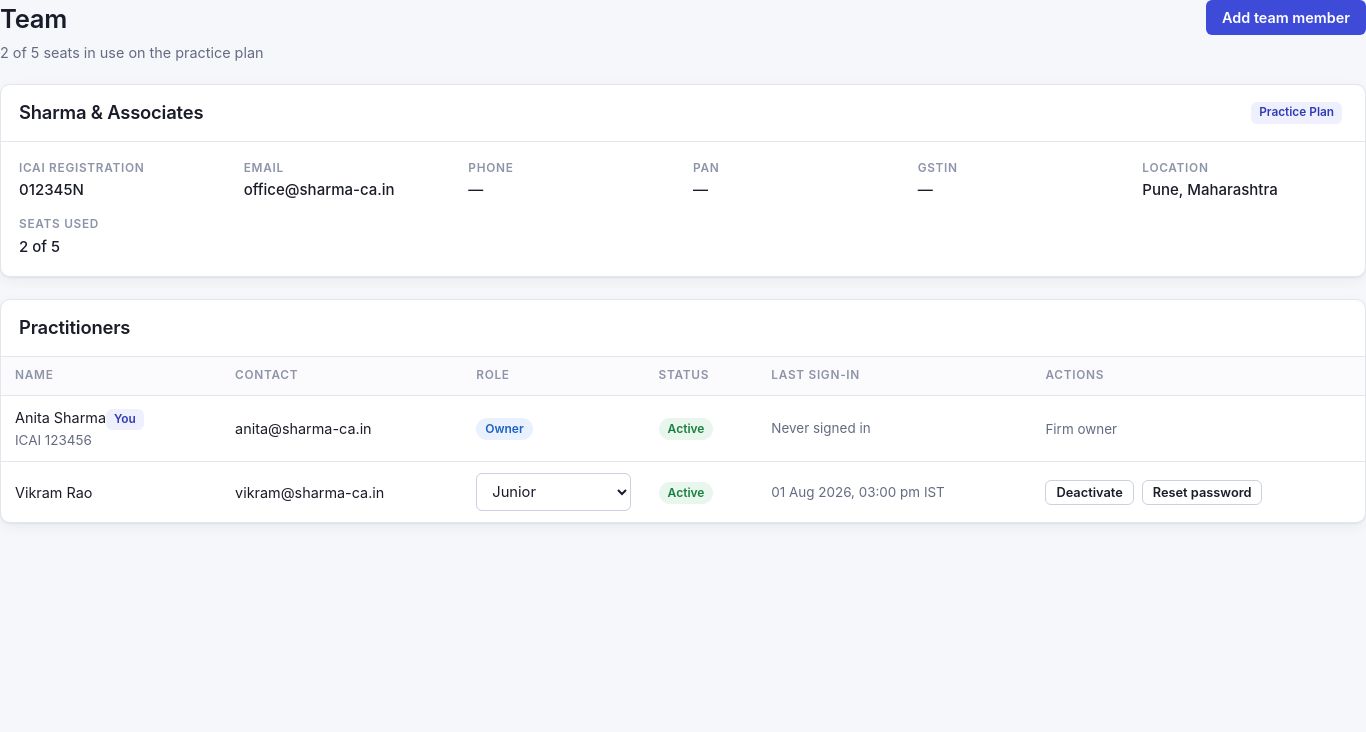
Adding a member › refuses a password the server would reject, without asking it
The width and height of the screenshot is (1366, 732).
Click the button "Add team member": coordinates (1286, 18) [1206,0,1365,35]
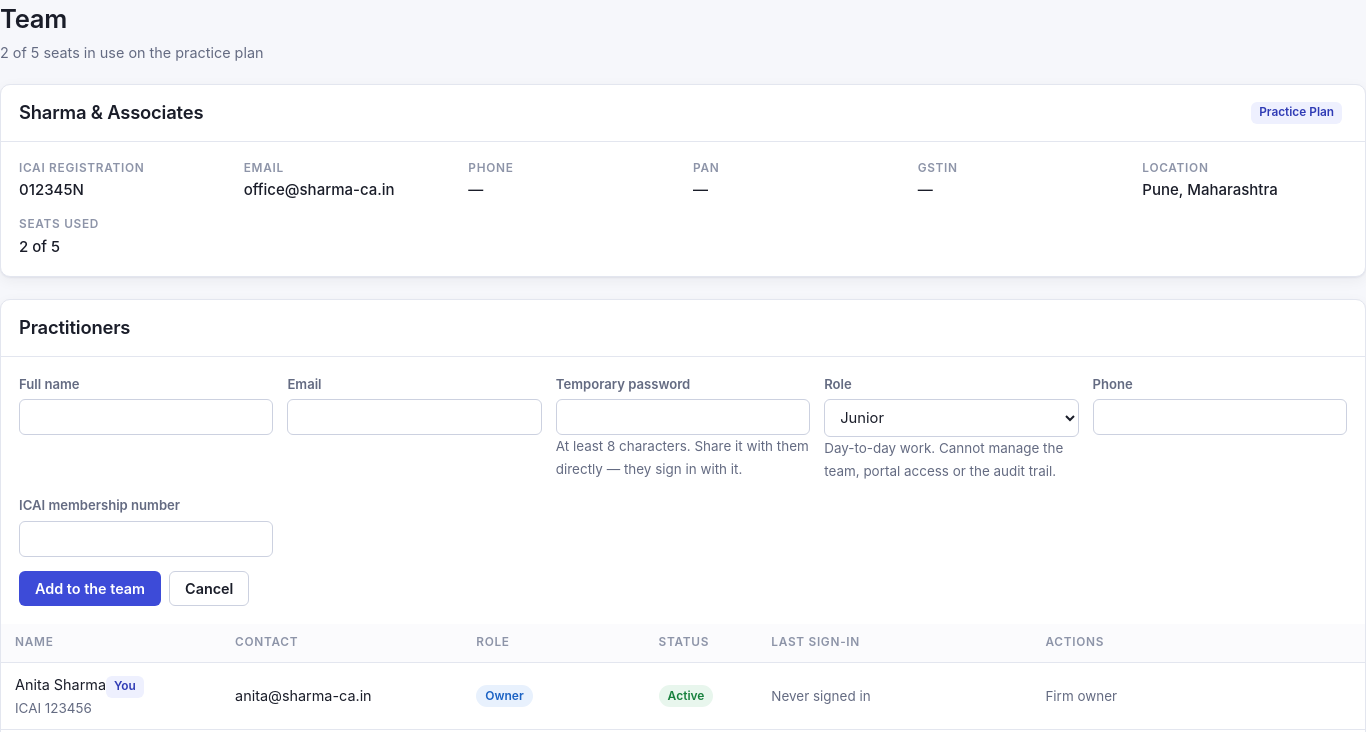
In the field labelled "Full name": coordinates (146, 417) [19,399,273,435], type "Sunil Bose"
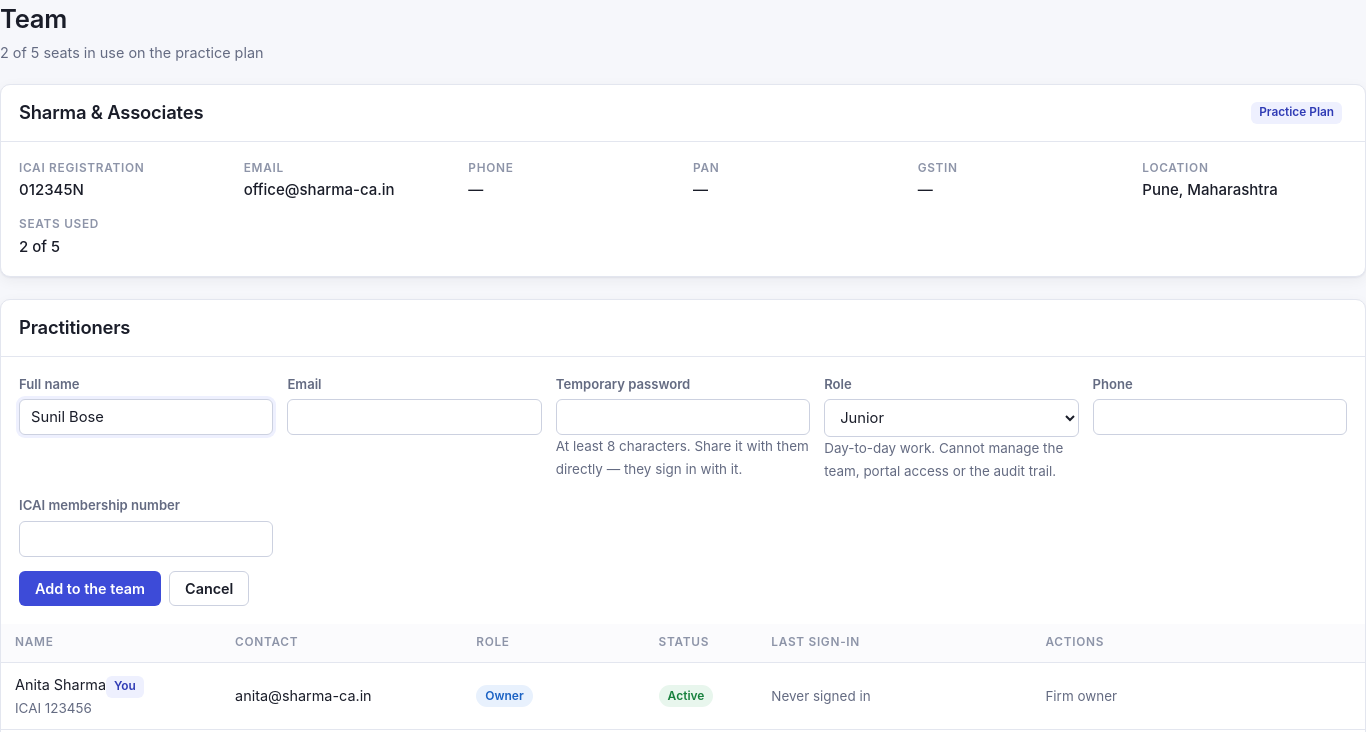
In the field labelled "Email": coordinates (415, 417) [287,399,542,435], type "sunil@sharma-ca.in"
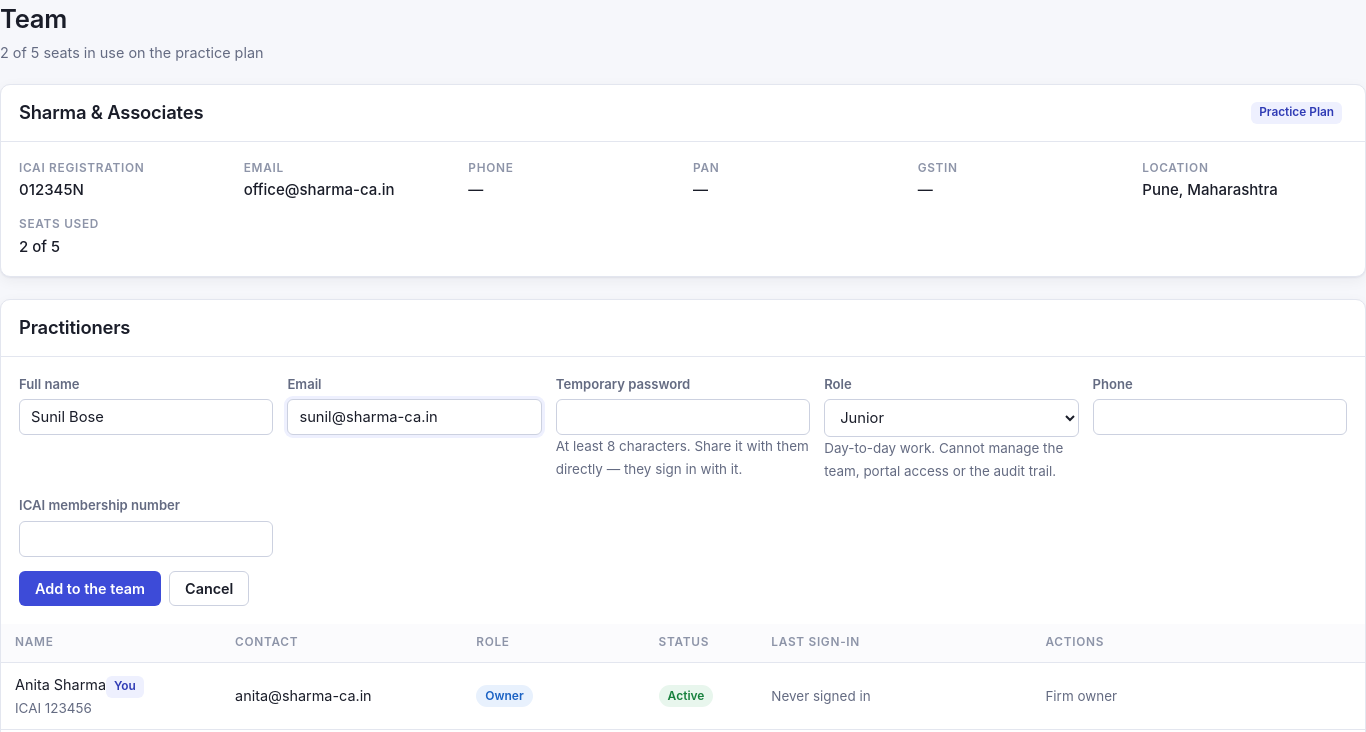
In the password field labelled "Temporary password": coordinates (683, 417) [556,399,810,435], type "short"
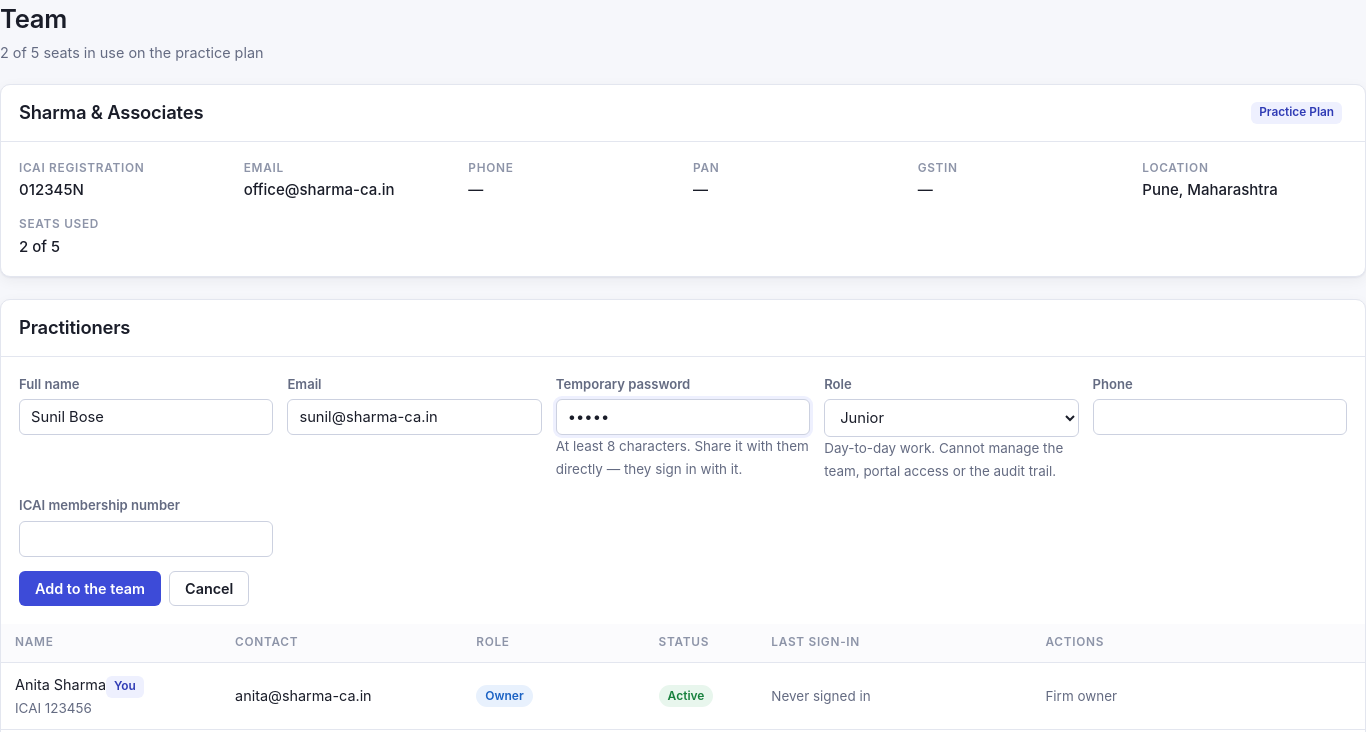
Click the button "Add to the team": coordinates (90, 589) [19,571,161,606]
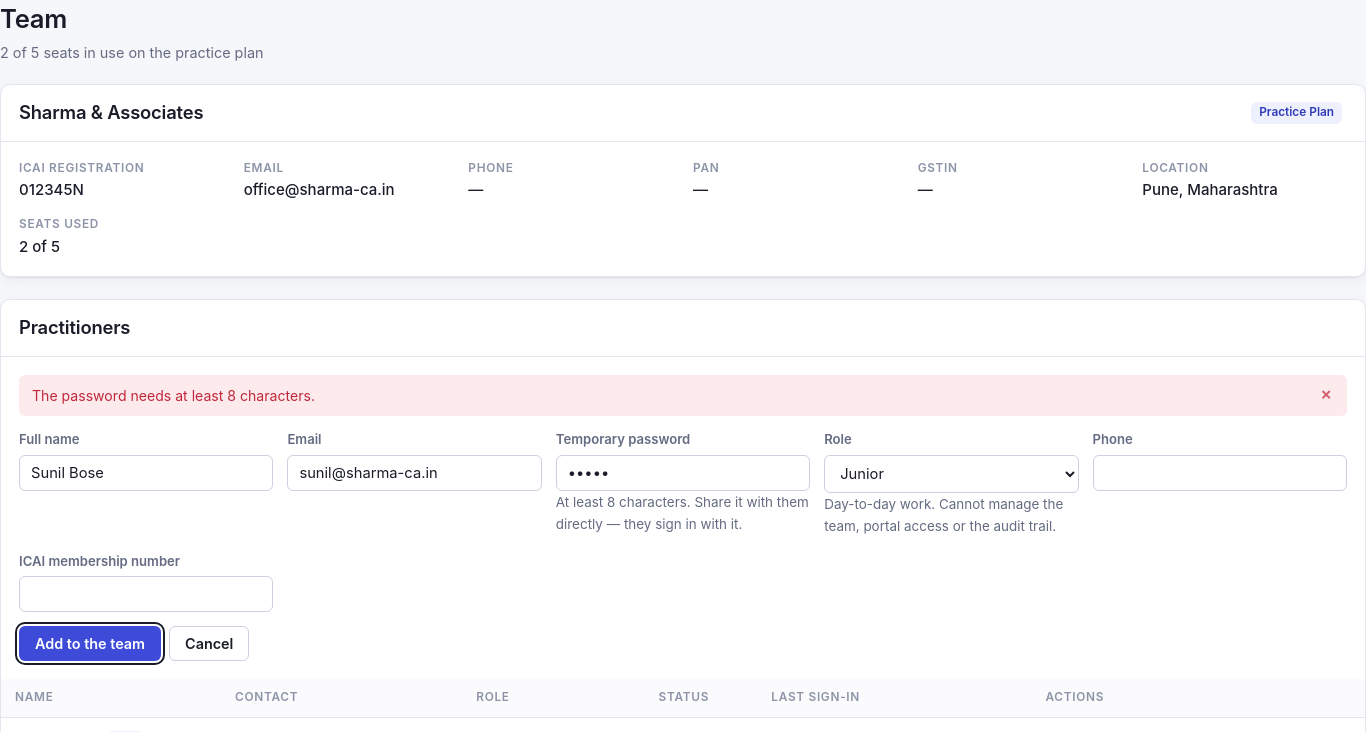
Check: the message shows "at least 8 characters", box [32,387,315,404]
